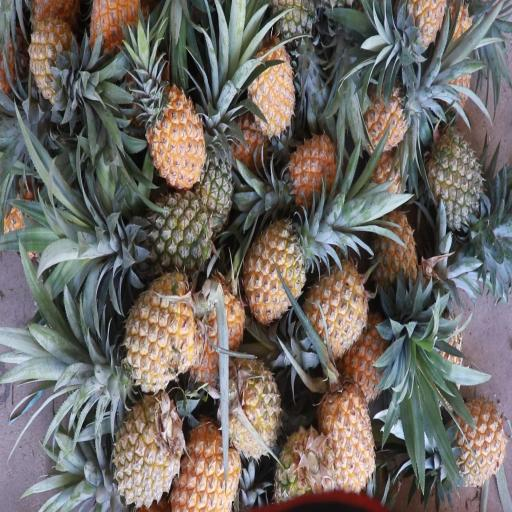Pineapple - v8 v1: (120, 263, 198, 395), (114, 387, 187, 512), (301, 261, 375, 375), (244, 215, 314, 326), (168, 415, 244, 512), (218, 356, 282, 470), (148, 77, 211, 191), (187, 269, 247, 388), (318, 380, 379, 496), (245, 16, 297, 138), (22, 15, 81, 111), (276, 121, 341, 208), (368, 212, 426, 305), (362, 70, 415, 168), (454, 398, 509, 492)
